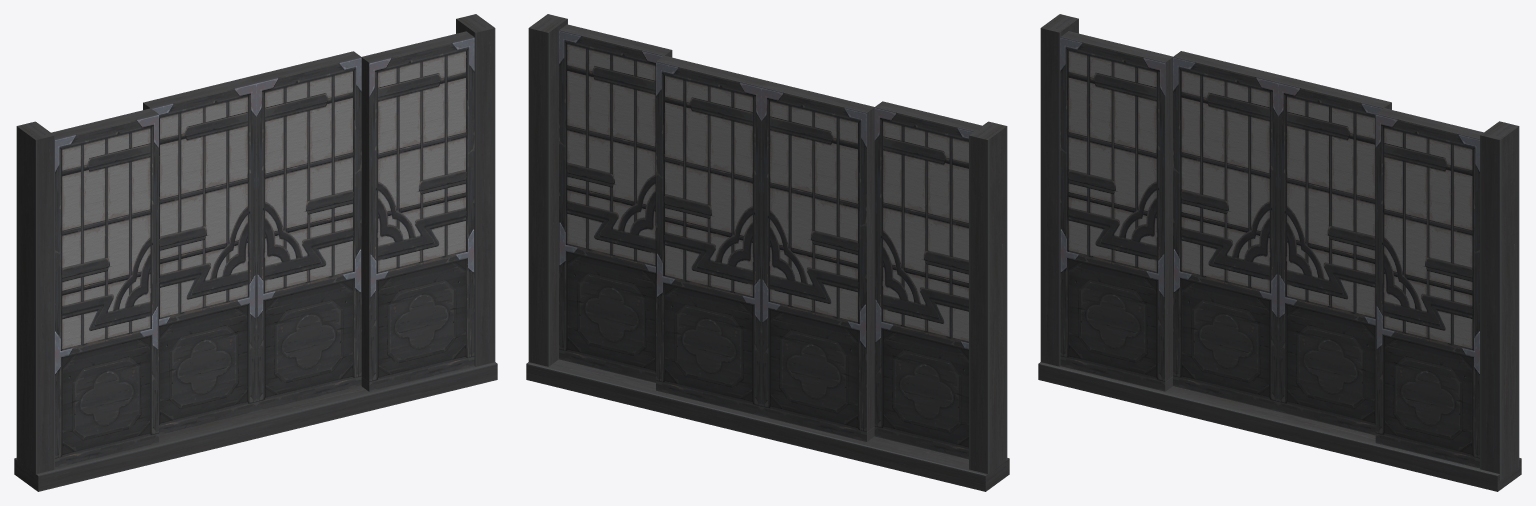
Rendered from Homeworld_Ani_Interior_Dq_Room_Door_02_Vo.fbx.
3 renders of one model, left to right at view 1: azimuth 30°, elevation 25°; view 2: azimuth 150°, elevation 25°; view 3: azimuth 330°, elevation 25°, orthographic.
Parts seen in each view (by area): view 1: Homeworld_Interior_Dq_Room_Door_02_01_Vo, Homeworld_Interior_Dq_Room_Door_02_02_Vo, Homeworld_Interior_Dq_Room_Door_02_03_Vo; view 2: Homeworld_Interior_Dq_Room_Door_02_01_Vo, Homeworld_Interior_Dq_Room_Door_02_03_Vo, Homeworld_Interior_Dq_Room_Door_02_02_Vo; view 3: Homeworld_Interior_Dq_Room_Door_02_01_Vo, Homeworld_Interior_Dq_Room_Door_02_03_Vo, Homeworld_Interior_Dq_Room_Door_02_02_Vo.
Boxes of the visible parts, bbox=[...] form: Homeworld_Interior_Dq_Room_Door_02_01_Vo: bbox=[14, 14, 497, 491]; Homeworld_Interior_Dq_Room_Door_02_02_Vo: bbox=[249, 51, 361, 411]; Homeworld_Interior_Dq_Room_Door_02_03_Vo: bbox=[143, 77, 256, 435]; Homeworld_Interior_Dq_Room_Door_02_01_Vo: bbox=[526, 14, 1009, 491]; Homeworld_Interior_Dq_Room_Door_02_03_Vo: bbox=[761, 81, 874, 441]; Homeworld_Interior_Dq_Room_Door_02_02_Vo: bbox=[656, 55, 769, 416]; Homeworld_Interior_Dq_Room_Door_02_01_Vo: bbox=[1038, 14, 1521, 491]; Homeworld_Interior_Dq_Room_Door_02_03_Vo: bbox=[1173, 51, 1285, 411]; Homeworld_Interior_Dq_Room_Door_02_02_Vo: bbox=[1278, 76, 1391, 435].
Bounding box in the file's own units: 4.85 × 3.53 × 0.44.
